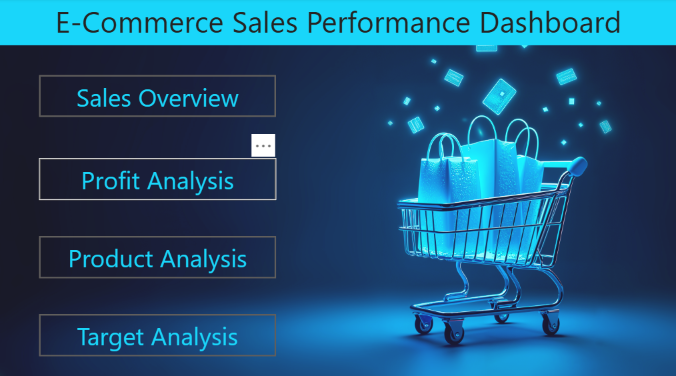

The dashboard page shown, as its layout file describes it:
{"tool":"powerbi","page":{"name":"Dashboard","canvas":[1280,720],"ordinal":0},"visuals":[{"type":"textbox","box":[0,0,1279.5,89.3],"z":0},{"type":"actionButton","box":[73.7,145.5,447.9,79.4],"z":1000},{"type":"actionButton","box":[74.2,301.8,448.2,80.3],"z":2000},{"type":"actionButton","box":[74.2,449.2,448.2,80.3],"z":3000},{"type":"actionButton","box":[74.2,596.6,448.2,80.3],"z":4000}]}

Visuals, with their boxes in screenshot pixels (x1, y1, x2, y2), scaled from the page's 1280x720 canvas onto the 676x376 screenshot:
textbox: 0, 0, 675, 47
actionButton: 39, 76, 275, 117
actionButton: 39, 158, 276, 200
actionButton: 39, 235, 276, 277
actionButton: 39, 312, 276, 353
